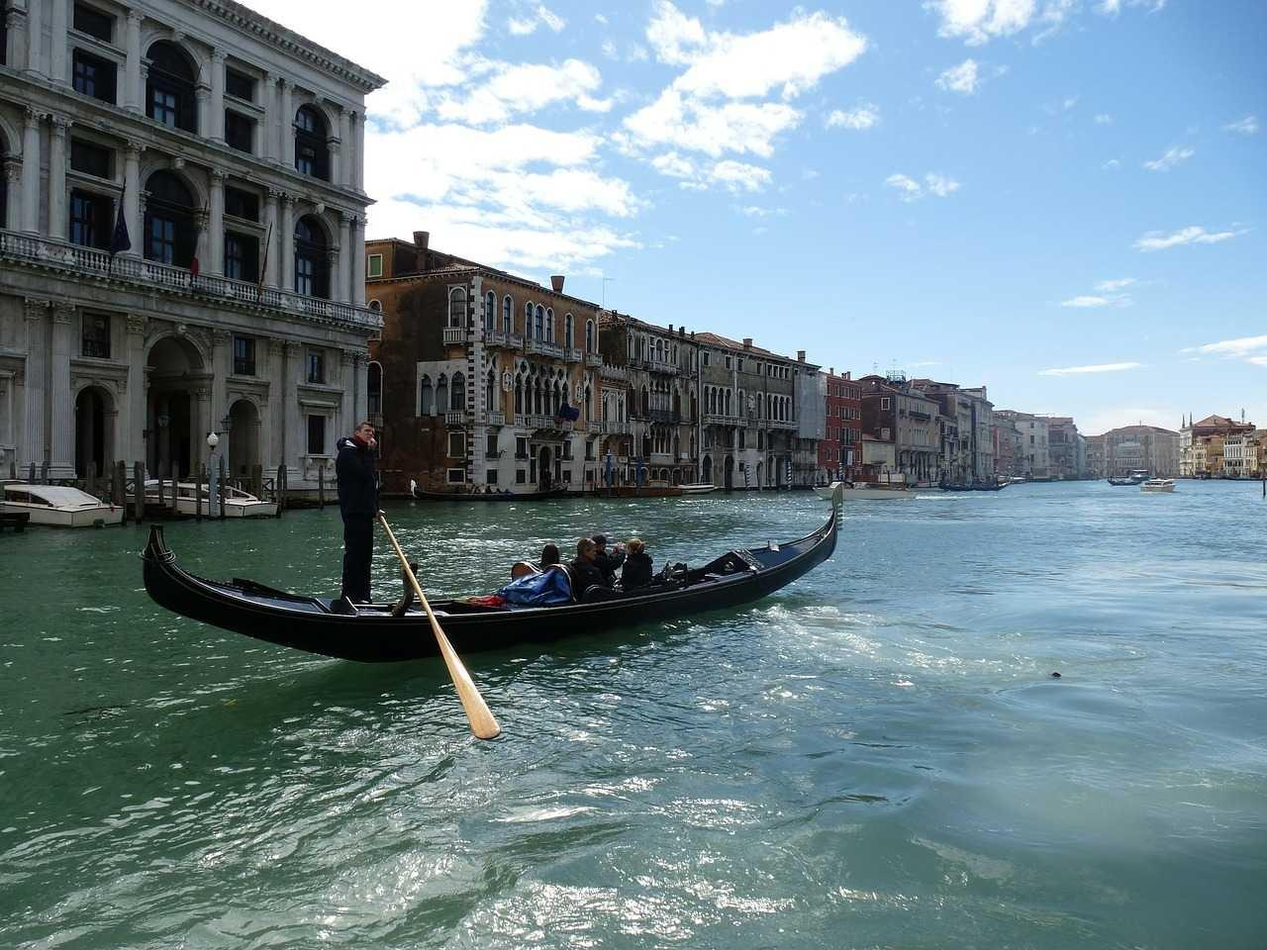kayak: (146, 490, 839, 655), (130, 477, 282, 520), (2, 480, 125, 528), (858, 467, 912, 493), (0, 504, 30, 532), (1138, 479, 1175, 493), (1107, 475, 1148, 487)
